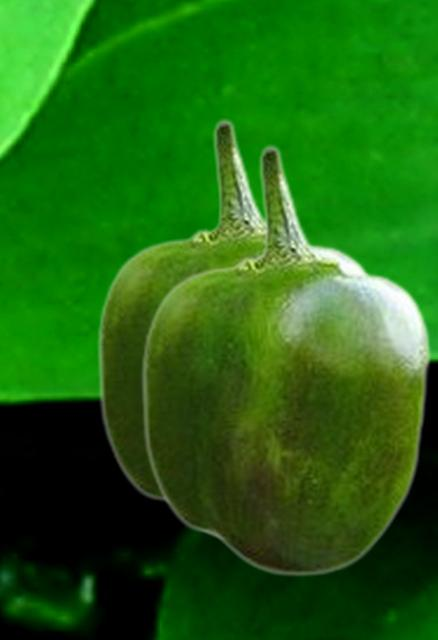bell_pepper: (140, 144, 431, 577), (96, 118, 371, 543)
